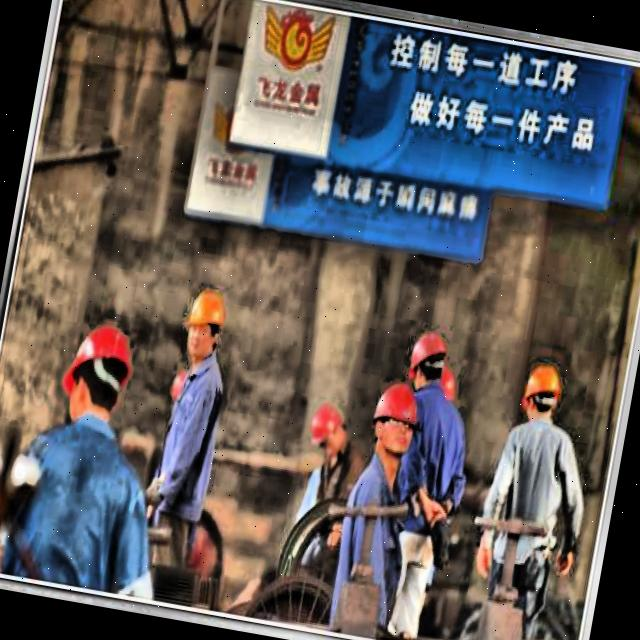helmet: (52, 310, 148, 434), (360, 375, 424, 473), (176, 281, 234, 368), (401, 329, 455, 398), (516, 359, 566, 432), (302, 400, 348, 470)
